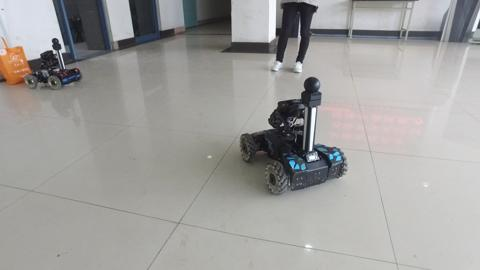bag: (1, 34, 32, 86)
chariot: (237, 73, 348, 196), (22, 36, 84, 91)
